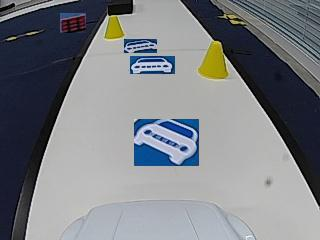block: (108, 0, 133, 15)
cone: (199, 41, 229, 80), (105, 15, 125, 39)
